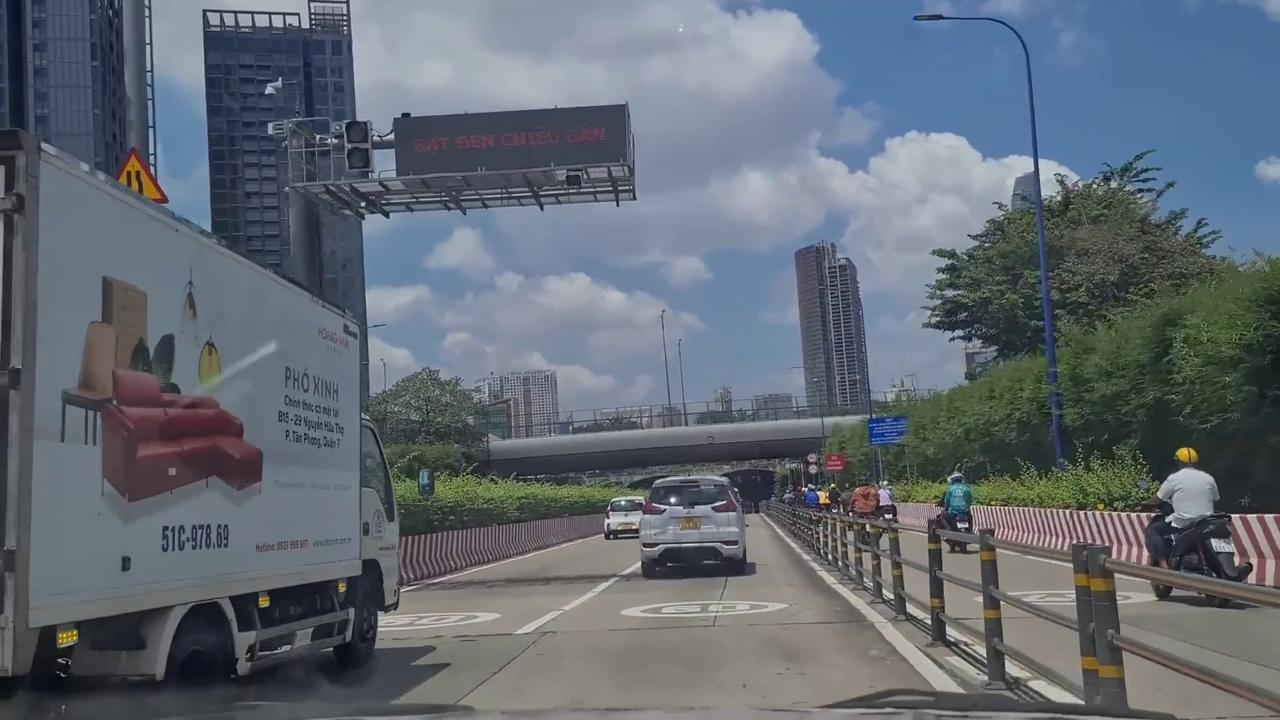Đuờng hẹp: (106, 144, 169, 207)
